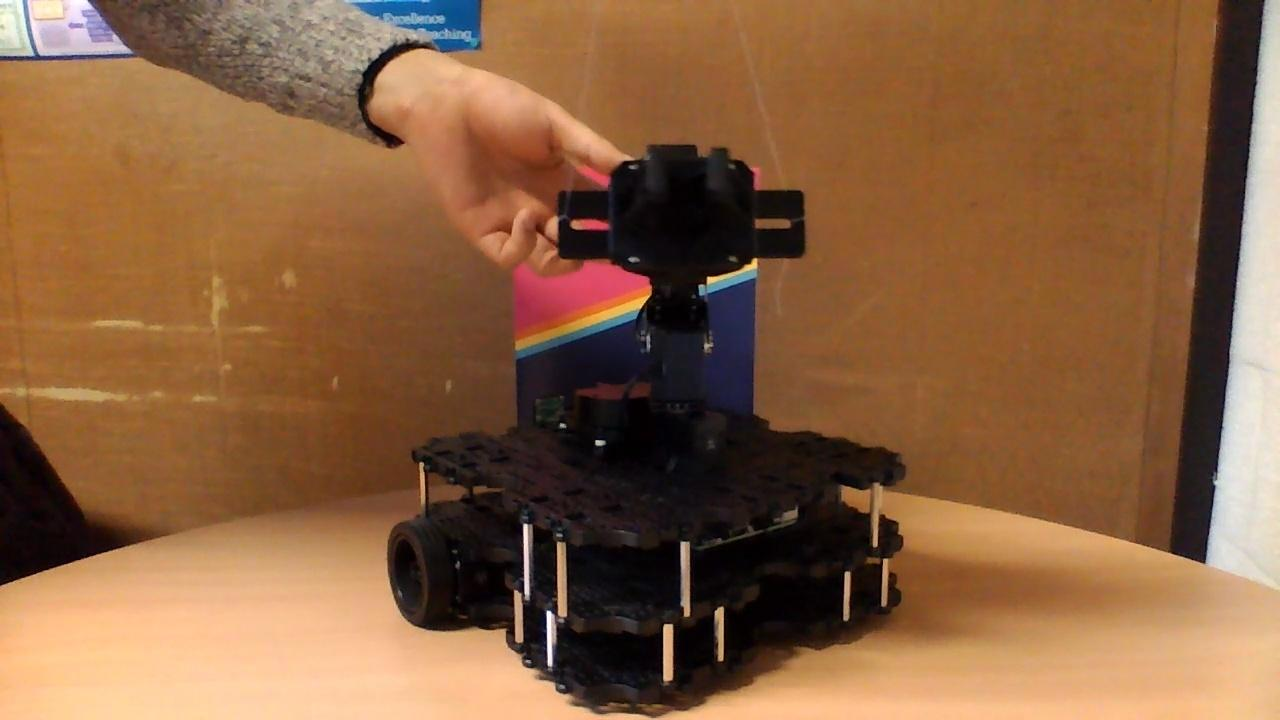Arm: (636, 276, 718, 410)
Hand: (554, 143, 810, 279)
base: (388, 378, 909, 707)
